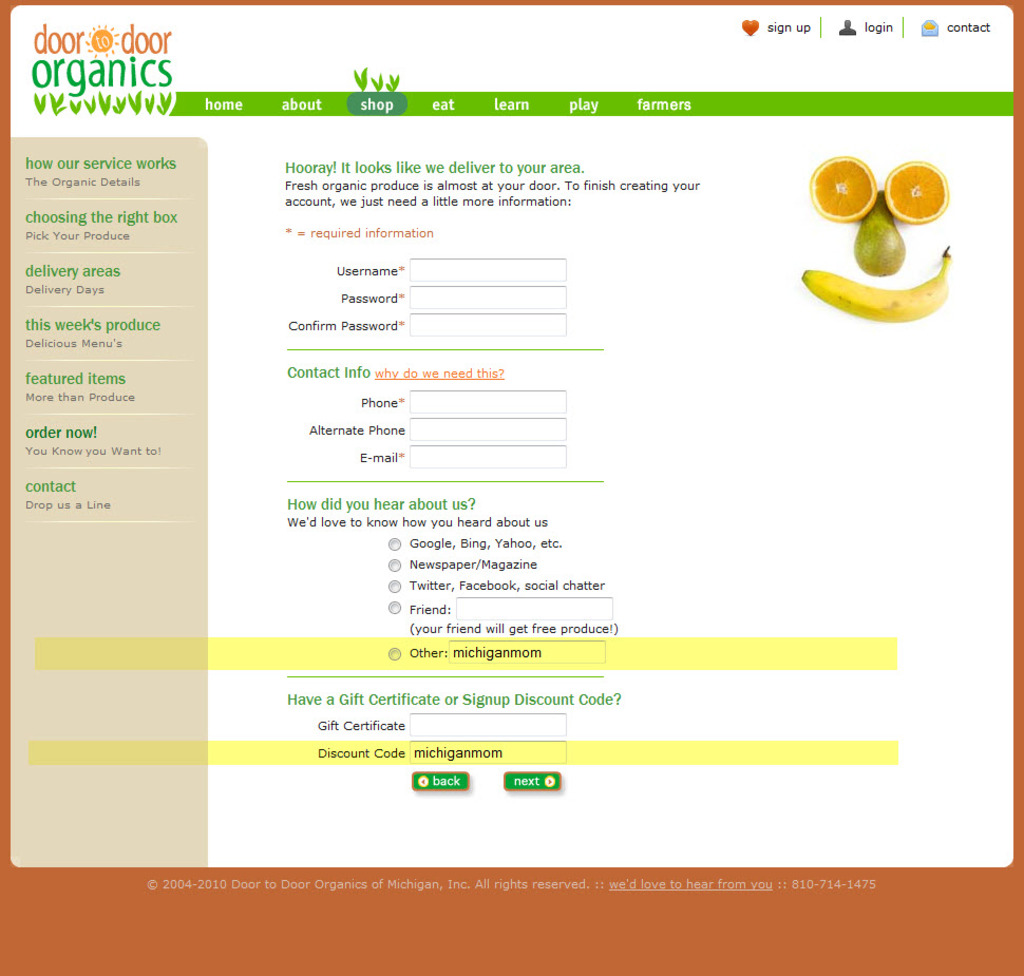Ripe: (877, 159, 948, 230)
